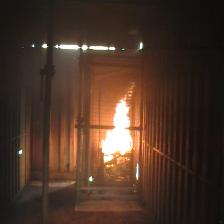fire: (100, 82, 135, 164)
